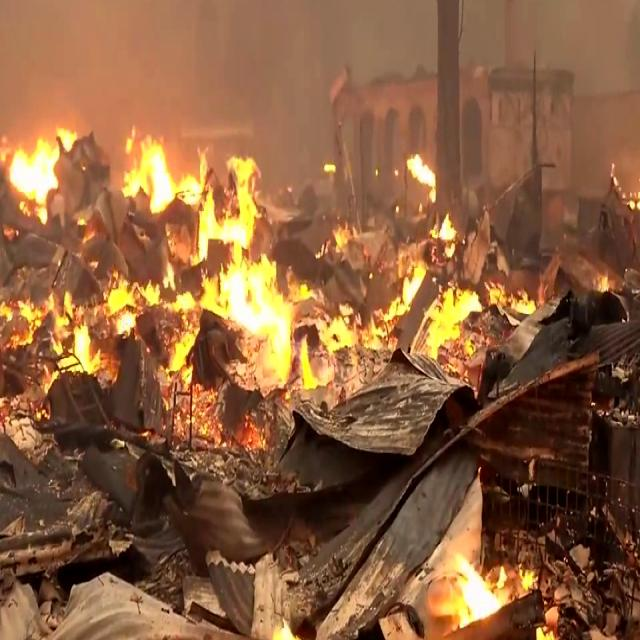fire: (184, 155, 299, 344), (17, 93, 183, 221)
